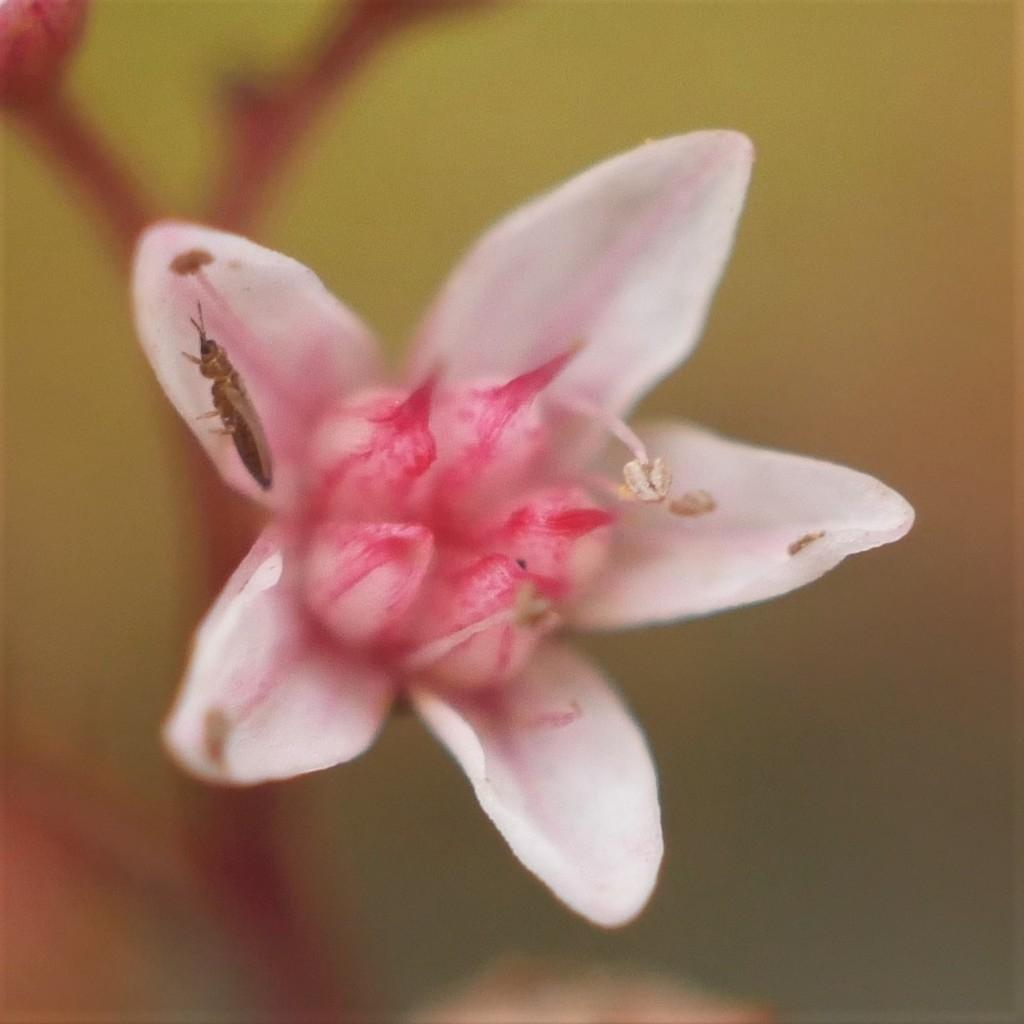tiny_pests: (143, 271, 324, 507)
